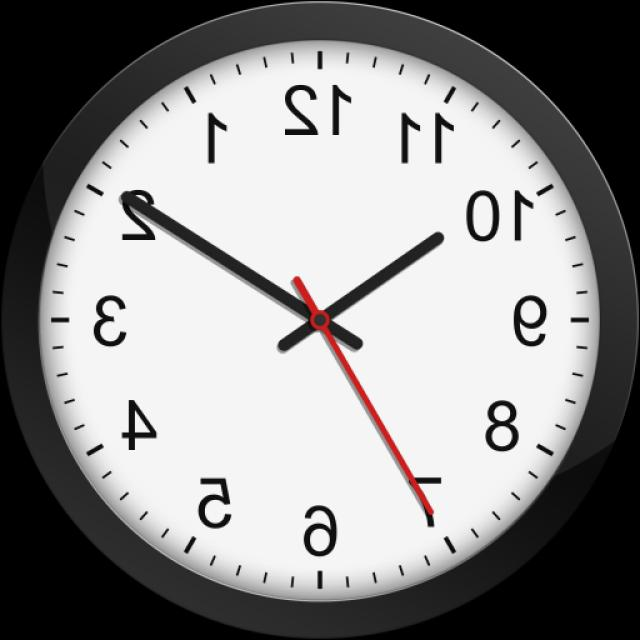clock: (0, 25, 590, 587)
